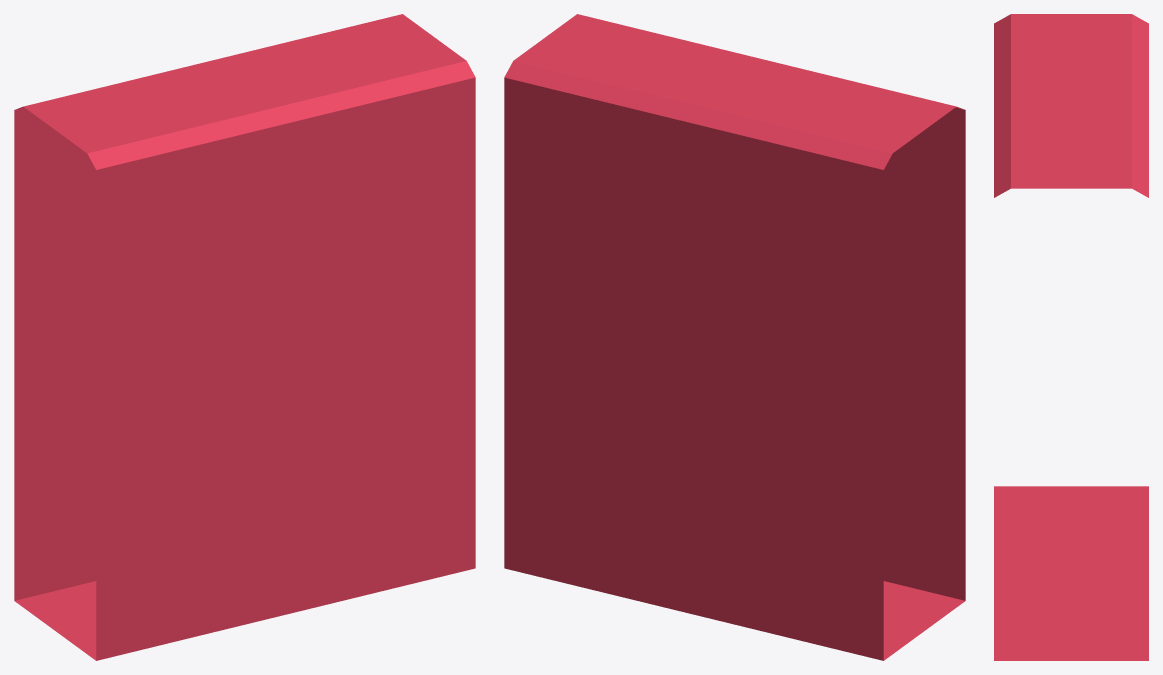
File: Itr_Couch_Outside_Back_Middle_01.FBX
The picture shows the model from 3 angles, left to right: view 1: azimuth 30°, elevation 25°; view 2: azimuth 150°, elevation 25°; view 3: azimuth 270°, elevation 25°; orthographic projection. The views are drawn at different scales.
Visible parts, largest first — view 1: Itr_Couch_Outside_Back_Middle_01; view 2: Itr_Couch_Outside_Back_Middle_01; view 3: Itr_Couch_Outside_Back_Middle_01.
Boxes of the visible parts, x1=… form: Itr_Couch_Outside_Back_Middle_01: x1=14, y1=14, x2=475, y2=660; Itr_Couch_Outside_Back_Middle_01: x1=504, y1=14, x2=965, y2=660; Itr_Couch_Outside_Back_Middle_01: x1=994, y1=14, x2=1148, y2=660.
Size of the model in its own units: 19.21 by 24.24 by 7.19.
